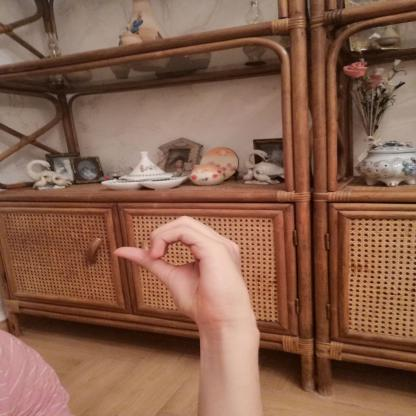WAW: (96, 207, 268, 336)
